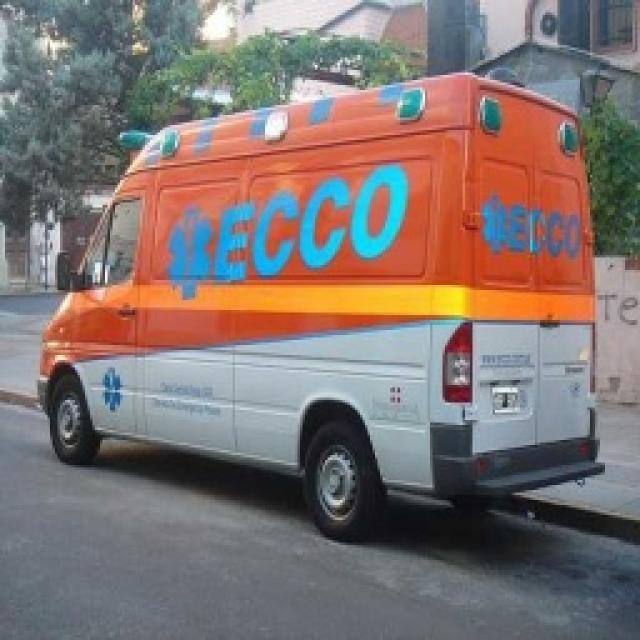emergency-vehicle: (33, 71, 605, 535)
